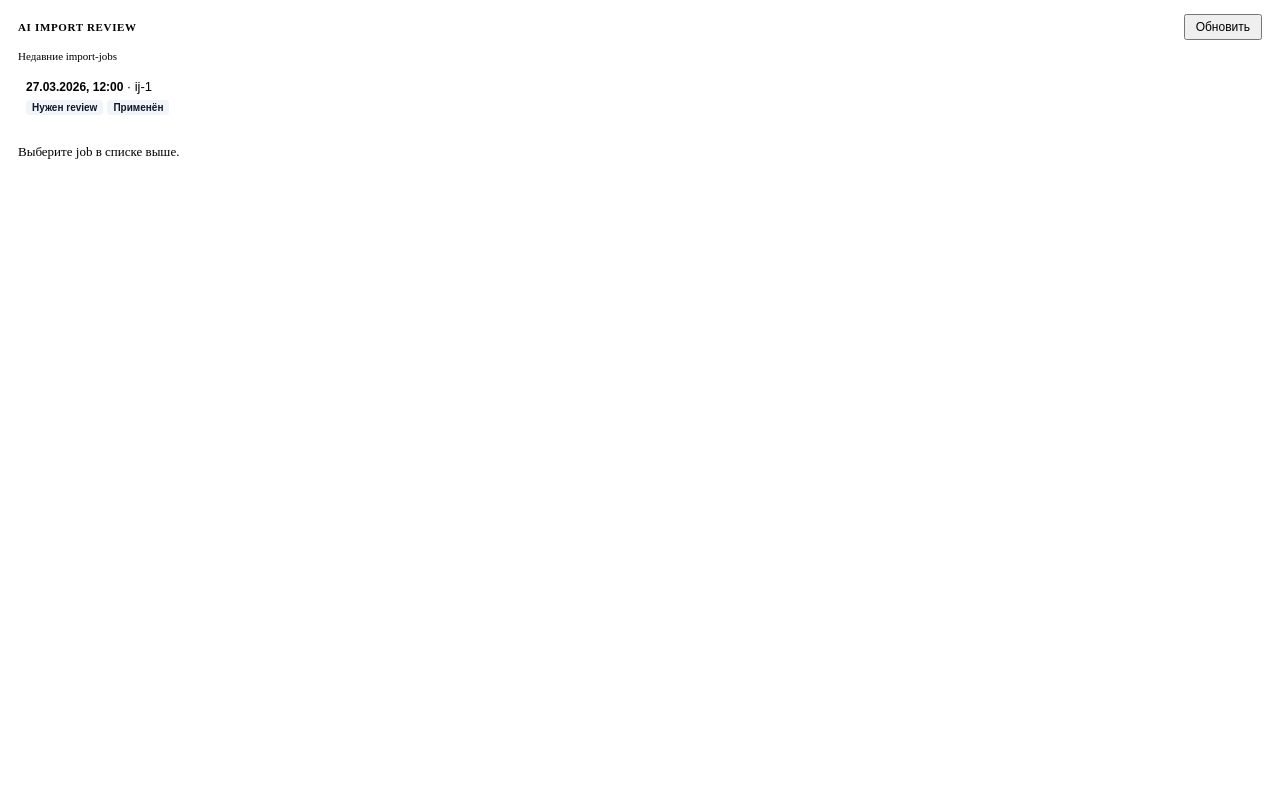
Test case: ImportReviewPanel integration › apply candidate calls API with concurrency markers
This screenshot has width=1280, height=796.
Later steps or results of the test are not shown.
Click the button with test id "ir-job-row-ij-1": (75,86) x1=18 y1=70 x2=1262 y2=125
(page scrolled)
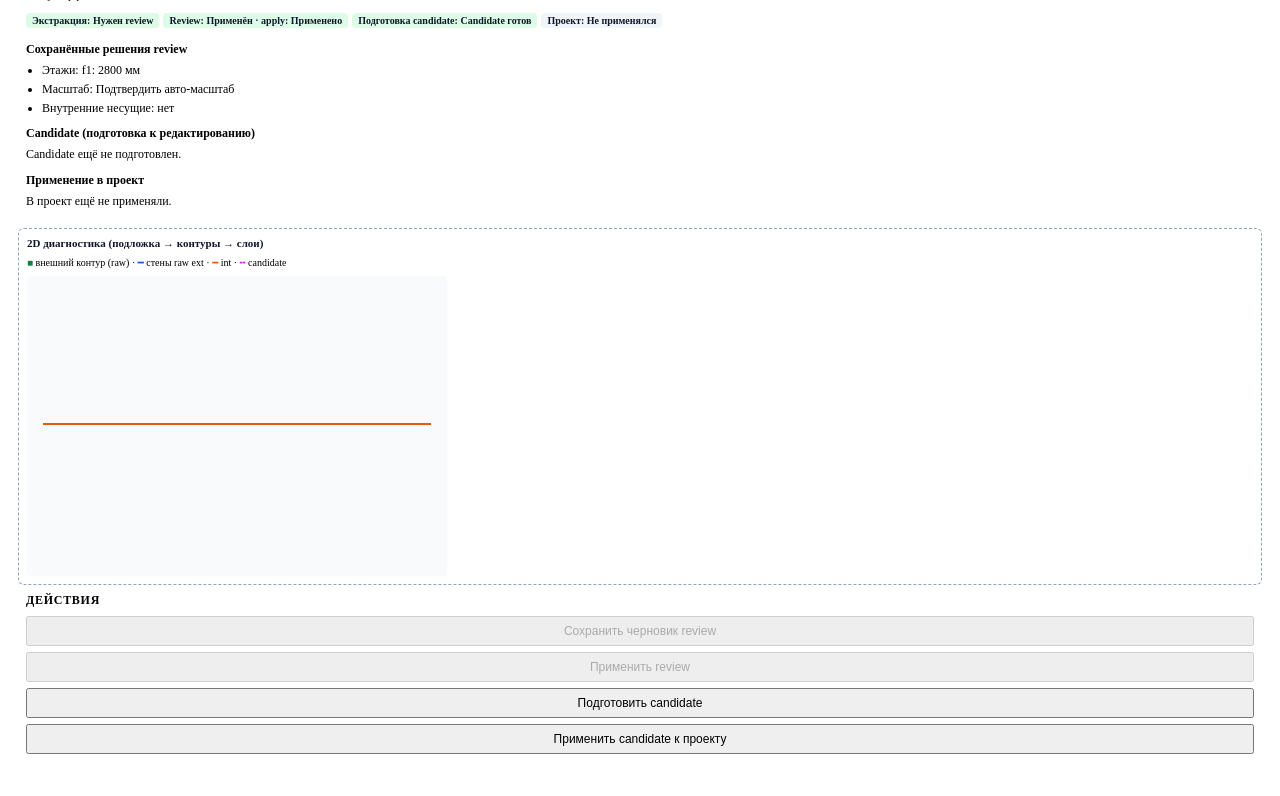
expect the button with test id "ir-apply-candidate" is shown: met, box x1=26 y1=724 x2=1254 y2=754
